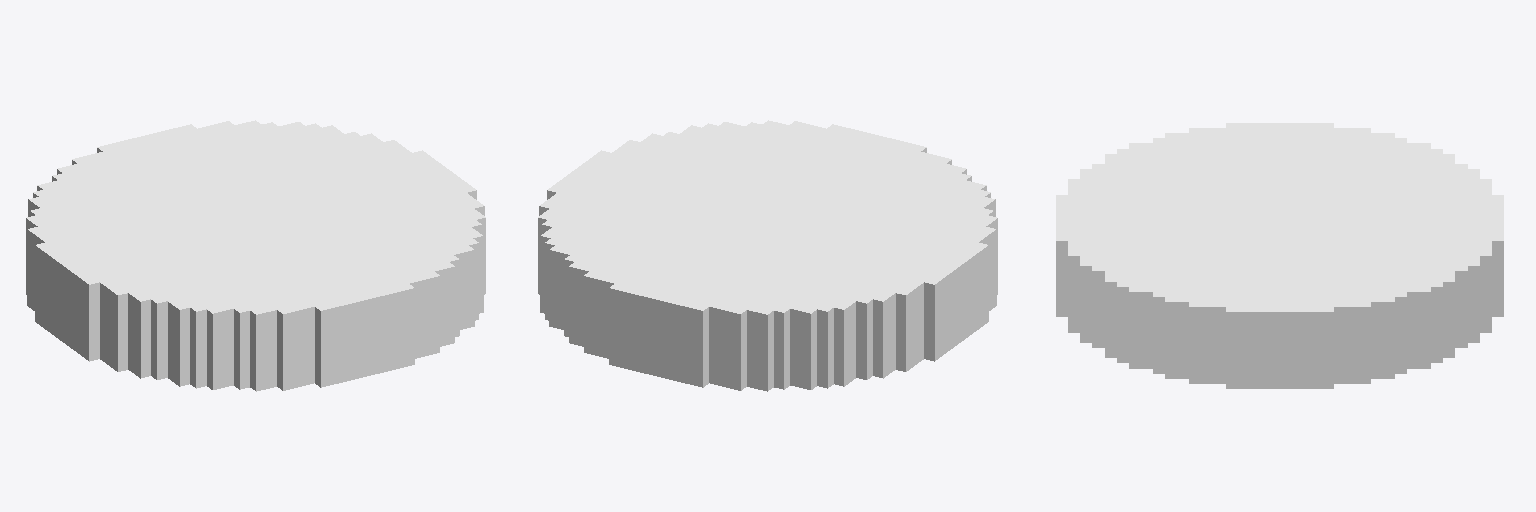
The model's file is pool_inside.obj.
3 views of the same model, side by side, from view 1: azimuth 30°, elevation 25°; view 2: azimuth 150°, elevation 25°; view 3: azimuth 270°, elevation 25° (orthographic).
Parts seen in each view (by area): view 1: pool_inside; view 2: pool_inside; view 3: pool_inside.
Part boxes in pixels (x1,y1,x2,y2): pool_inside: (26,120,485,391); pool_inside: (538,120,997,391); pool_inside: (1056,123,1503,388).
Size of the model in its own units: 37 by 7 by 37.